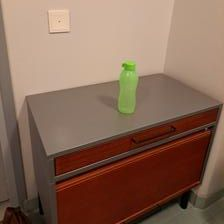bottle: (113, 59, 141, 116)
